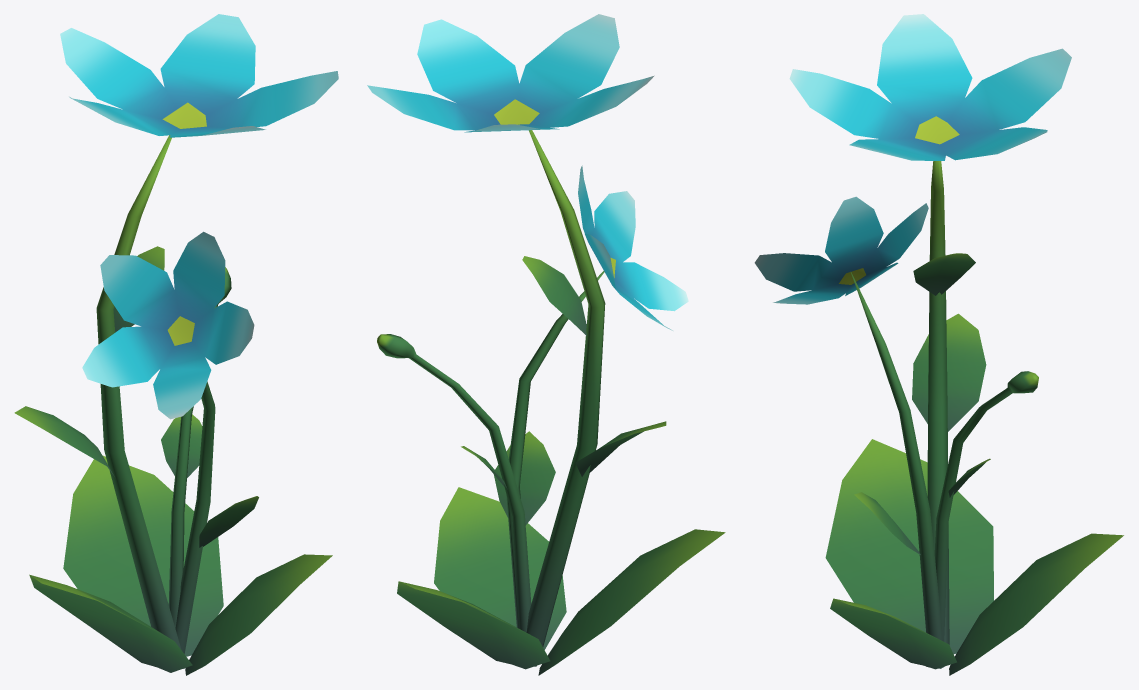
File: flowerblue.gltf
The picture shows the model from 3 angles, left to right: view 1: azimuth 30°, elevation 25°; view 2: azimuth 150°, elevation 25°; view 3: azimuth 270°, elevation 25°; orthographic projection.
Visible parts, largest first — view 1: Flower.007; view 2: Flower.007; view 3: Flower.007.
Boxes of the visible parts, bbox=[...] form: Flower.007: bbox=[14, 14, 338, 675]; Flower.007: bbox=[367, 14, 725, 675]; Flower.007: bbox=[754, 14, 1123, 675].
Size of the model in its own units: 1.36 by 2.62 by 1.48.
1 material, 1 textured.
